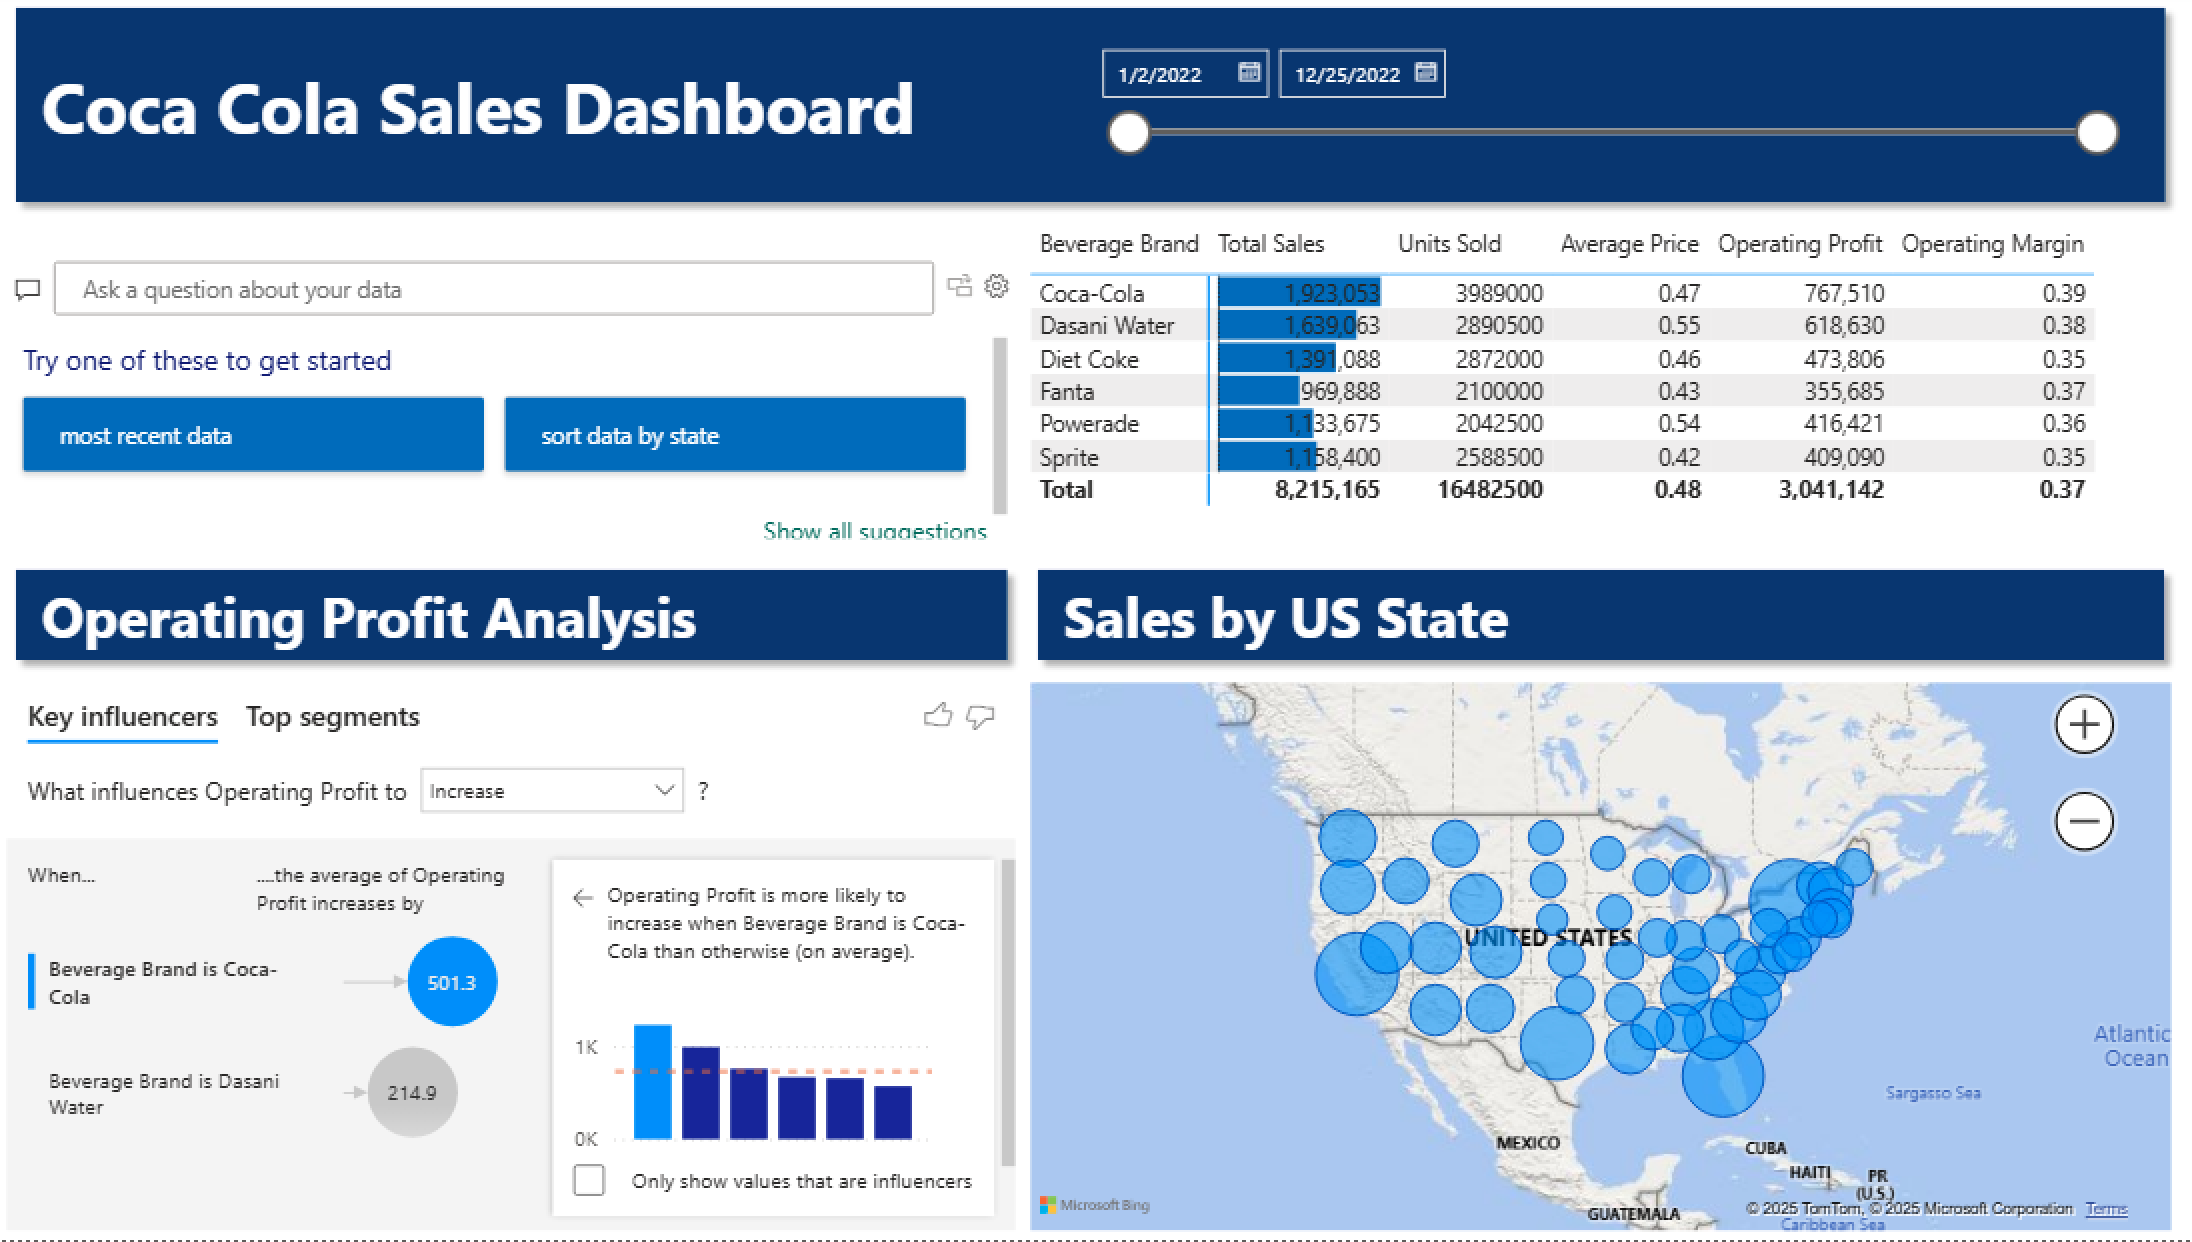

The dashboard page shown, as its layout file describes it:
{"tool":"powerbi","page":{"name":"Page 1","canvas":[1280,720],"ordinal":0},"visuals":[{"type":"shape","box":[10.2,0,1258.3,130],"z":0},{"type":"shape","box":[10.2,323.8,590.3,70.1],"z":1000},{"type":"shape","box":[600.5,323.8,668,70.1],"z":2000},{"type":"qnaVisual","box":[10.2,130,590.3,193.8],"z":3000},{"type":"keyDriversVisual","fields":{"Target":["Data.Operating Profit"],"ExplainBy":["Data.Beverage Brand"]},"box":[8.9,393.9,591.6,326.4],"z":4000},{"type":"map","fields":{"Category":["Data.State"],"Size":["Sum(Data.Total Sales)"]},"box":[600.5,393.9,668,326.4],"z":5000},{"type":"pivotTable","fields":{"Rows":["Data.Beverage Brand"],"Values":["Sum(Data.Total Sales)","Sum(Data.Units Sold)","Avg(Data.Price per Unit)","Sum(Data.Operating Profit)","Avg(Data.Operating Margin)"]},"box":[600,130,668,194],"z":6000},{"type":"slicer","fields":{"Values":["Data.Invoice Date"]},"box":[633.6,22.9,608.1,85.4],"z":6001}]}

Visuals, with their boxes in screenshot pixels (x1, y1, x2, y2), scaled from the page's 1280x720 canvas onto the 2192x1242 screenshot:
shape: left=17, top=0, right=2172, bottom=224
shape: left=17, top=559, right=1028, bottom=679
shape: left=1028, top=559, right=2172, bottom=679
qnaVisual: left=17, top=224, right=1028, bottom=559
keyDriversVisual - Data.Operating Profit x Data.Beverage Brand: left=15, top=679, right=1028, bottom=1241
map - Data.State x Sum(Data.Total Sales): left=1028, top=679, right=2172, bottom=1241
pivotTable - Data.Beverage Brand x Sum(Data.Total Sales): left=1028, top=224, right=2171, bottom=559
slicer - Data.Invoice Date: left=1085, top=40, right=2126, bottom=187
